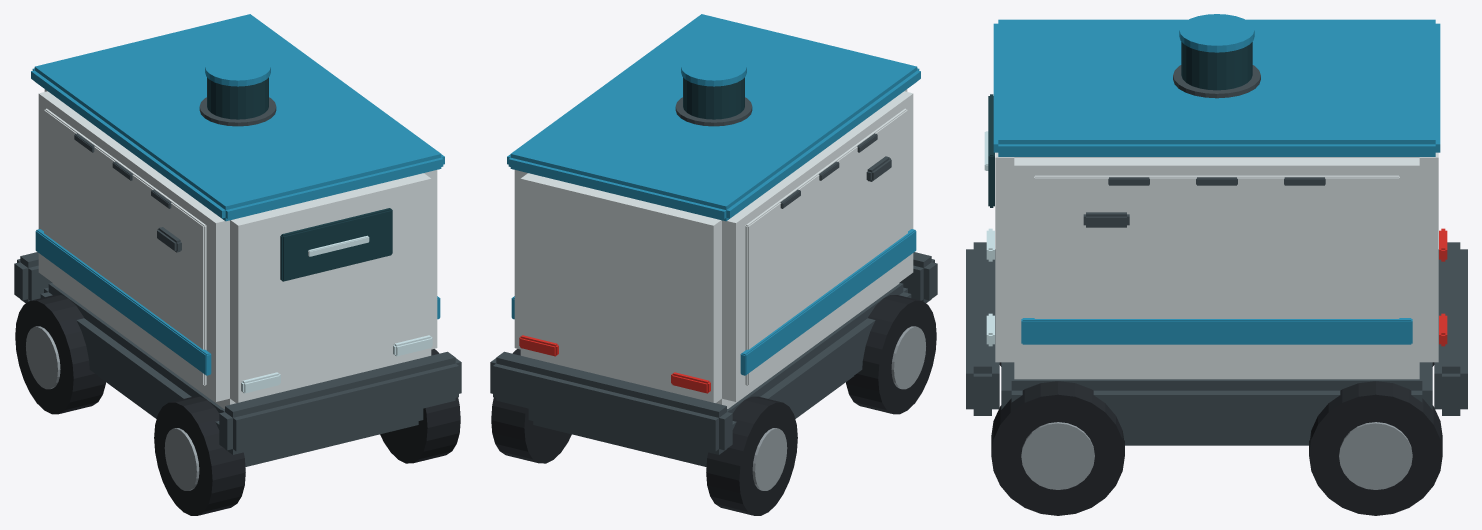
Rendered from delivery_robot.glb.
The picture shows the model from 3 angles, left to right: view 1: azimuth 30°, elevation 25°; view 2: azimuth 150°, elevation 25°; view 3: azimuth 270°, elevation 25°; orthographic projection. The views are drawn at different scales.
Parts seen in each view (by area): view 1: ROBOT_CargoBody, ROBOT_Lid, ROBOT_Door_Left, ROBOT_Bumper_Front, ROBOT_Chassis, ROBOT_Tire_FL, ROBOT_Tire_RL, ROBOT_FrontDisplay, ROBOT_Stripe_Left, ROBOT_Tire_FR, ROBOT_Lidar, ROBOT_LidarCap (+6 smaller); view 2: ROBOT_CargoBody, ROBOT_Lid, ROBOT_Door_Left, ROBOT_Bumper_Rear, ROBOT_Chassis, ROBOT_Tire_RL, ROBOT_Tire_FL, ROBOT_Stripe_Left, ROBOT_Tire_RR, ROBOT_Lidar, ROBOT_LidarCap, ROBOT_Hub_FL (+5 smaller); view 3: ROBOT_Door_Right, ROBOT_Lid, ROBOT_CargoBody, ROBOT_Chassis, ROBOT_Tire_FR, ROBOT_Tire_RR, ROBOT_Stripe_Right, ROBOT_Bumper_Front, ROBOT_Bumper_Rear, ROBOT_Hub_FR, ROBOT_Hub_RR, ROBOT_Lidar (+4 smaller).
Boxes of the visible parts, bbox=[...] form: ROBOT_CargoBody: bbox=[38, 89, 437, 408]; ROBOT_Lid: bbox=[31, 14, 444, 221]; ROBOT_Door_Left: bbox=[44, 108, 206, 385]; ROBOT_Bumper_Front: bbox=[219, 351, 461, 454]; ROBOT_Chassis: bbox=[40, 283, 423, 466]; ROBOT_Tire_FL: bbox=[154, 396, 245, 515]; ROBOT_Tire_RL: bbox=[15, 295, 105, 414]; ROBOT_FrontDisplay: bbox=[280, 208, 392, 281]; ROBOT_Stripe_Left: bbox=[35, 229, 211, 375]; ROBOT_Tire_FR: bbox=[380, 349, 460, 463]; ROBOT_Lidar: bbox=[207, 77, 268, 119]; ROBOT_LidarCap: bbox=[205, 52, 270, 86]; ROBOT_CargoBody: bbox=[514, 89, 913, 408]; ROBOT_Lid: bbox=[507, 14, 920, 221]; ROBOT_Door_Left: bbox=[745, 108, 907, 385]; ROBOT_Bumper_Rear: bbox=[490, 351, 732, 454]; ROBOT_Chassis: bbox=[528, 283, 911, 466]; ROBOT_Tire_RL: bbox=[706, 396, 797, 515]; ROBOT_Tire_FL: bbox=[846, 295, 936, 414]; ROBOT_Stripe_Left: bbox=[740, 229, 916, 375]; ROBOT_Tire_RR: bbox=[491, 349, 571, 463]; ROBOT_Lidar: bbox=[683, 77, 744, 119]; ROBOT_LidarCap: bbox=[681, 52, 746, 86]; ROBOT_Hub_FL: bbox=[891, 326, 925, 389]; ROBOT_Door_Right: bbox=[1034, 175, 1399, 359]; ROBOT_Lid: bbox=[993, 19, 1440, 156]; ROBOT_CargoBody: bbox=[995, 152, 1438, 379]; ROBOT_Chassis: bbox=[1001, 362, 1432, 445]; ROBOT_Tire_FR: bbox=[991, 381, 1124, 515]; ROBOT_Tire_RR: bbox=[1309, 381, 1442, 515]; ROBOT_Stripe_Right: bbox=[1021, 318, 1412, 344]; ROBOT_Bumper_Front: bbox=[966, 242, 999, 415]; ROBOT_Bumper_Rear: bbox=[1434, 242, 1467, 415]; ROBOT_Hub_FR: bbox=[1021, 422, 1094, 489]; ROBOT_Hub_RR: bbox=[1339, 422, 1412, 489]; ROBOT_Lidar: bbox=[1181, 42, 1252, 90].
Bounding box in the file's own units: 0.8 × 1.1 × 1.2.
